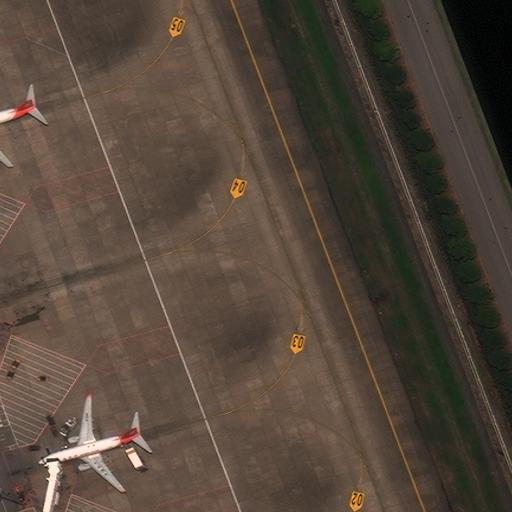Medium Civil Transport: (38, 397, 140, 492), (0, 88, 36, 168)
